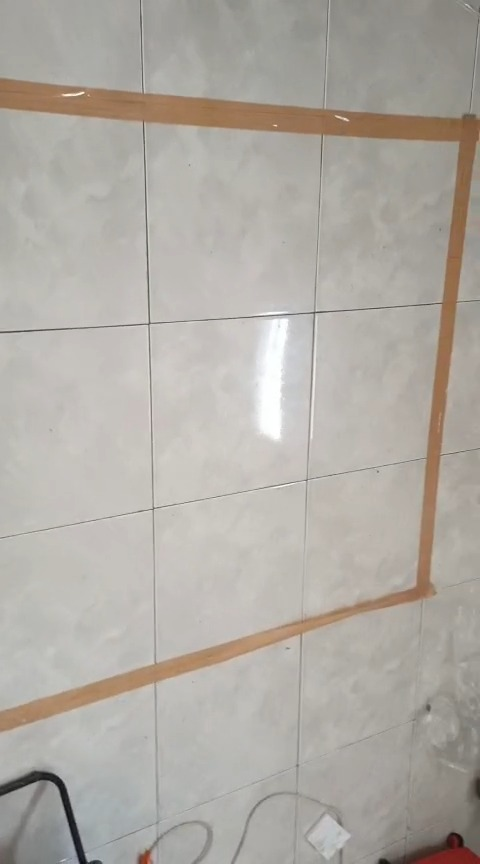floor marking: (0, 79, 479, 730)
